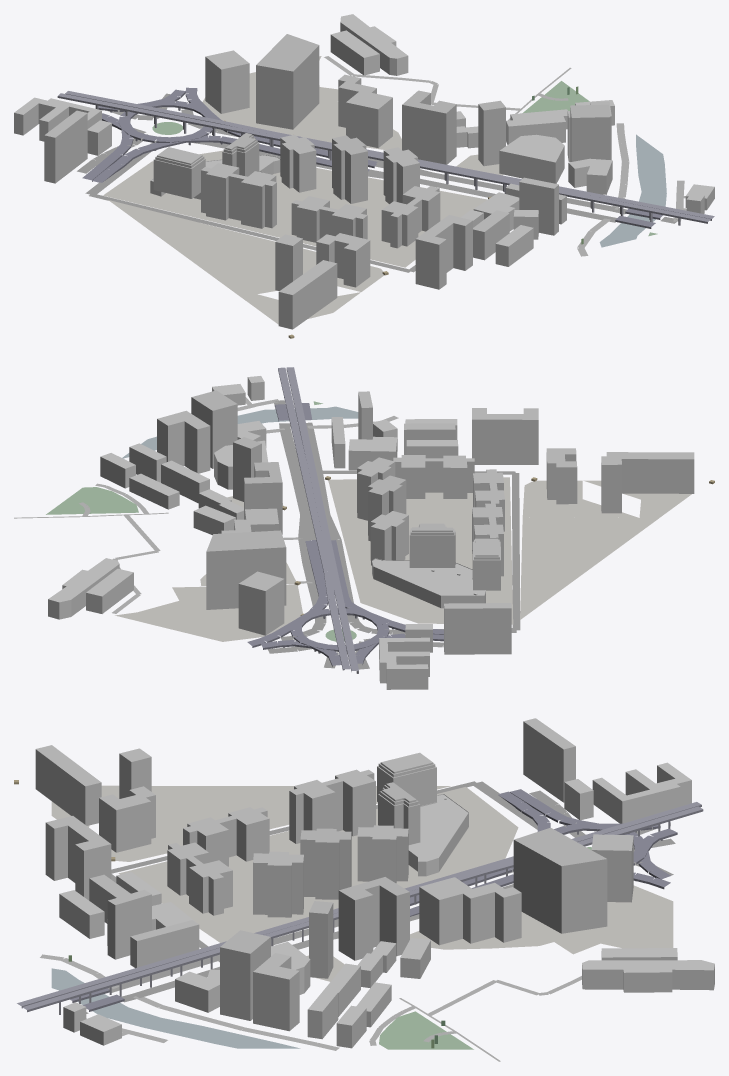
3 views of the same model, one above another, from view 1: azimuth 30°, elevation 25°; view 2: azimuth 150°, elevation 25°; view 3: azimuth 270°, elevation 25° (orthographic). The views are drawn at different scales.
Bounding box in the file's own units: 552 × 62.22 × 564.
